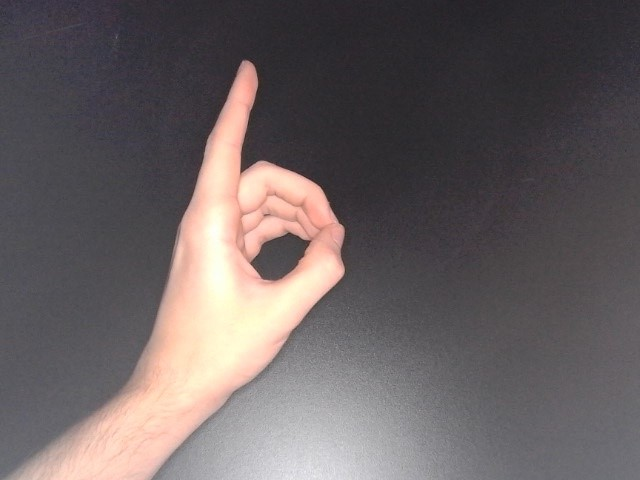d: (135, 56, 351, 419)
